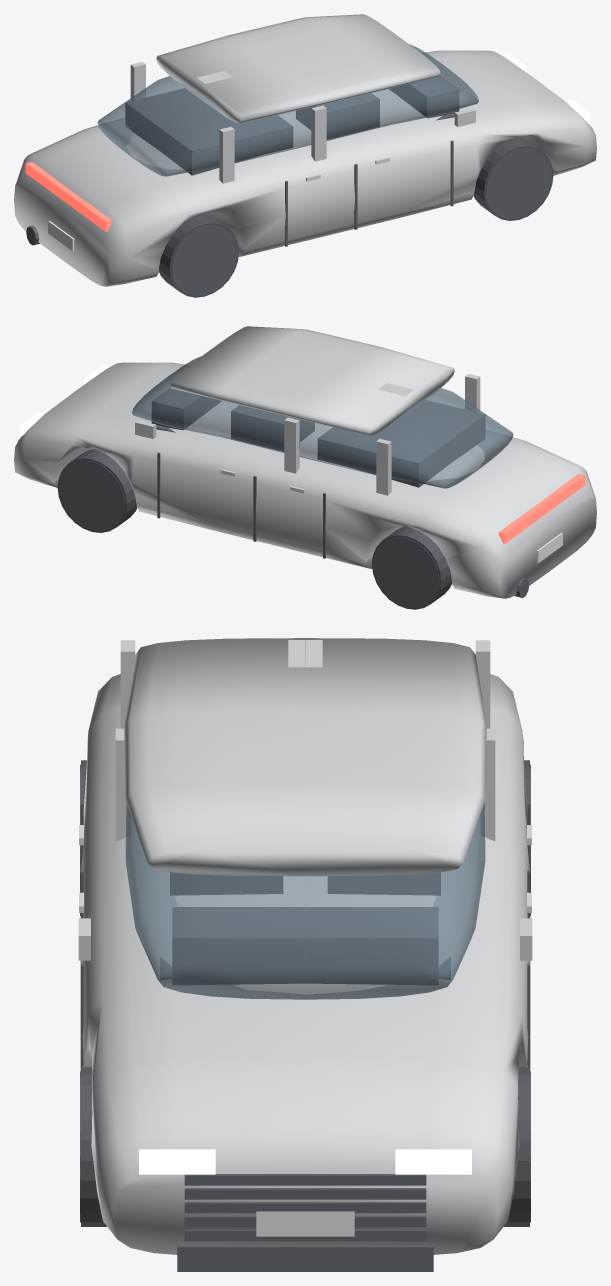
Rendered from sedan_silver.glb.
The picture shows the model from 3 angles, top to bottom: view 1: azimuth 30°, elevation 25°; view 2: azimuth 150°, elevation 25°; view 3: azimuth 270°, elevation 25°; orthographic projection. The views are drawn at different scales.
Parts seen in each view (by area): view 1: VehicleSedan; view 2: VehicleSedan; view 3: VehicleSedan.
Part boxes in pixels (<box>): VehicleSedan: <box>14,14,596,297</box>; VehicleSedan: <box>14,326,596,609</box>; VehicleSedan: <box>78,638,532,1271</box>.
Size of the model in its own units: 0.461 by 0.145 by 0.184.
